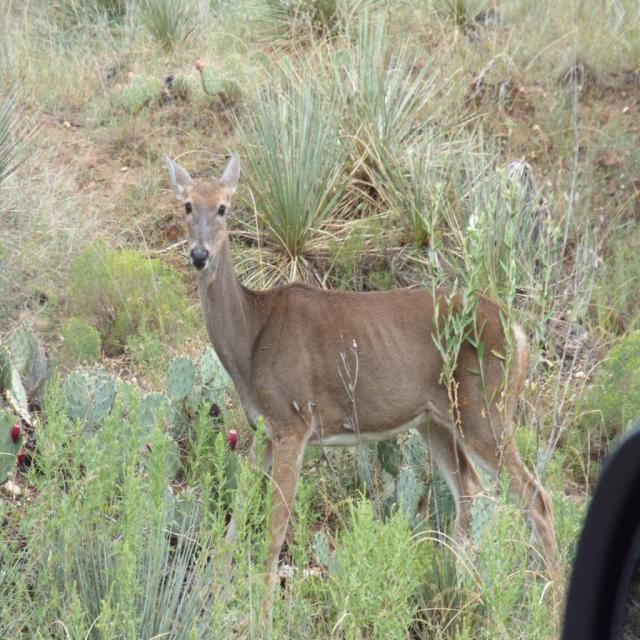Deer: (165, 153, 562, 617)
